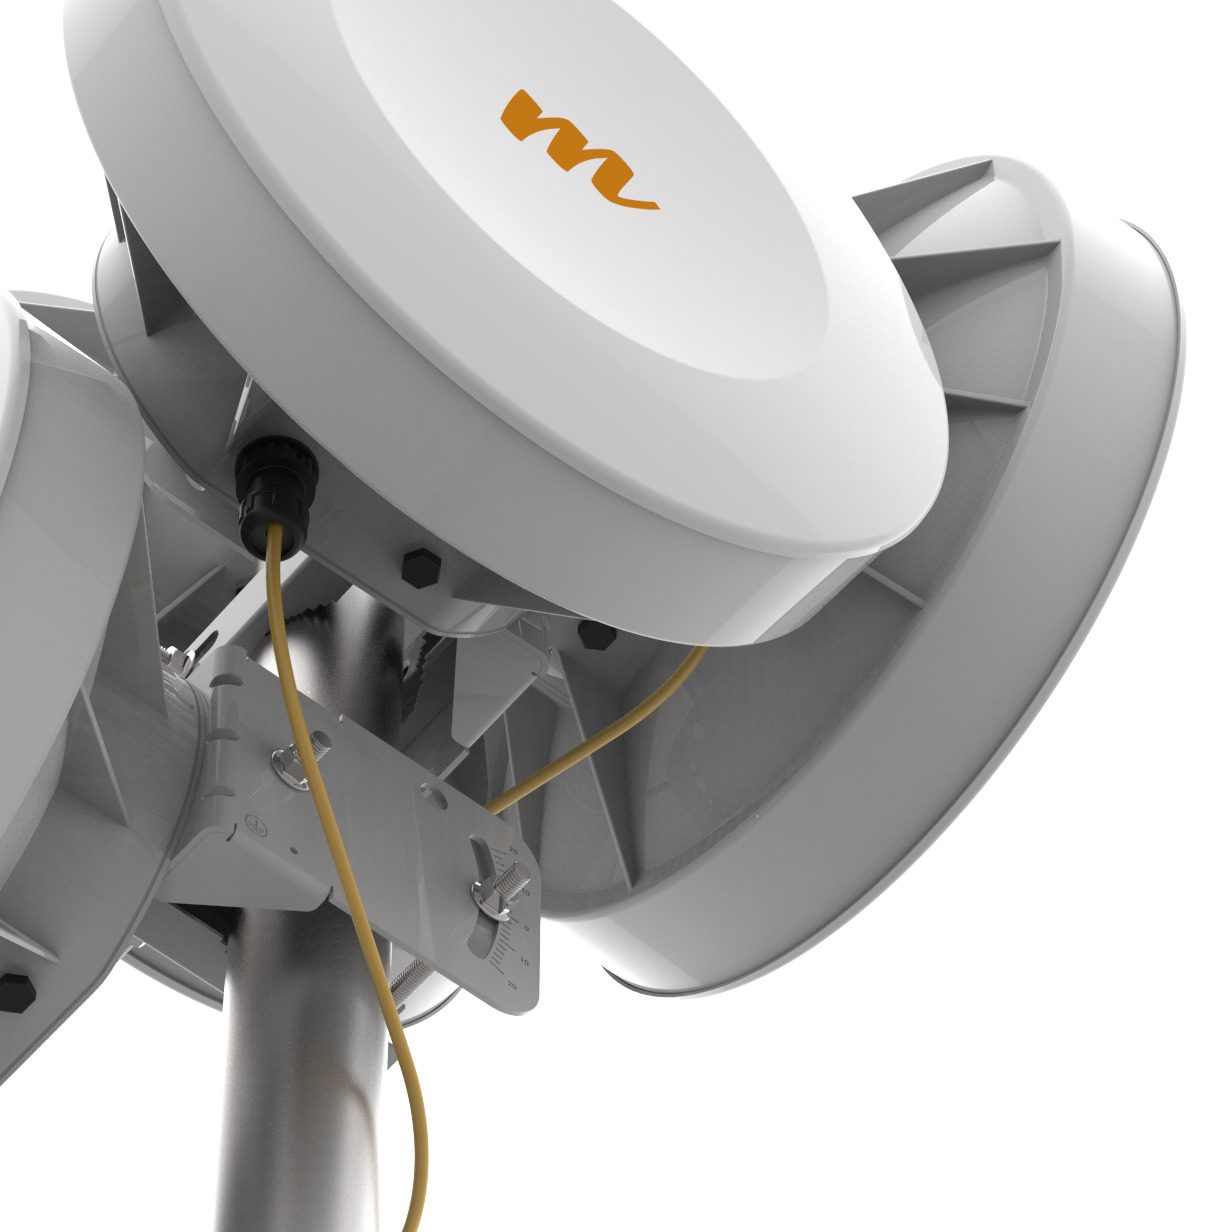ba: (399, 188, 1211, 1082)
